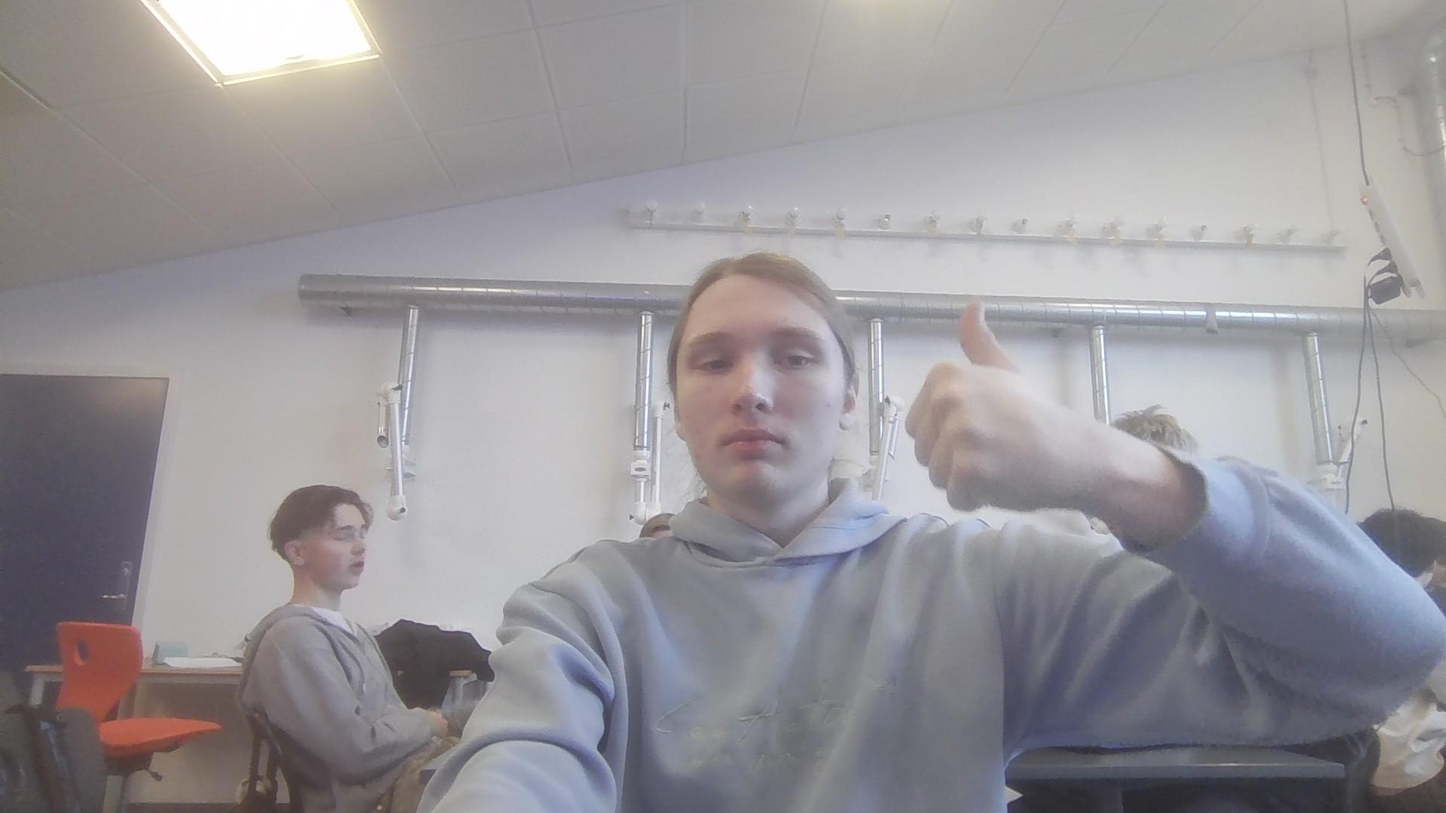thumbs up: (908, 294, 1076, 523)
